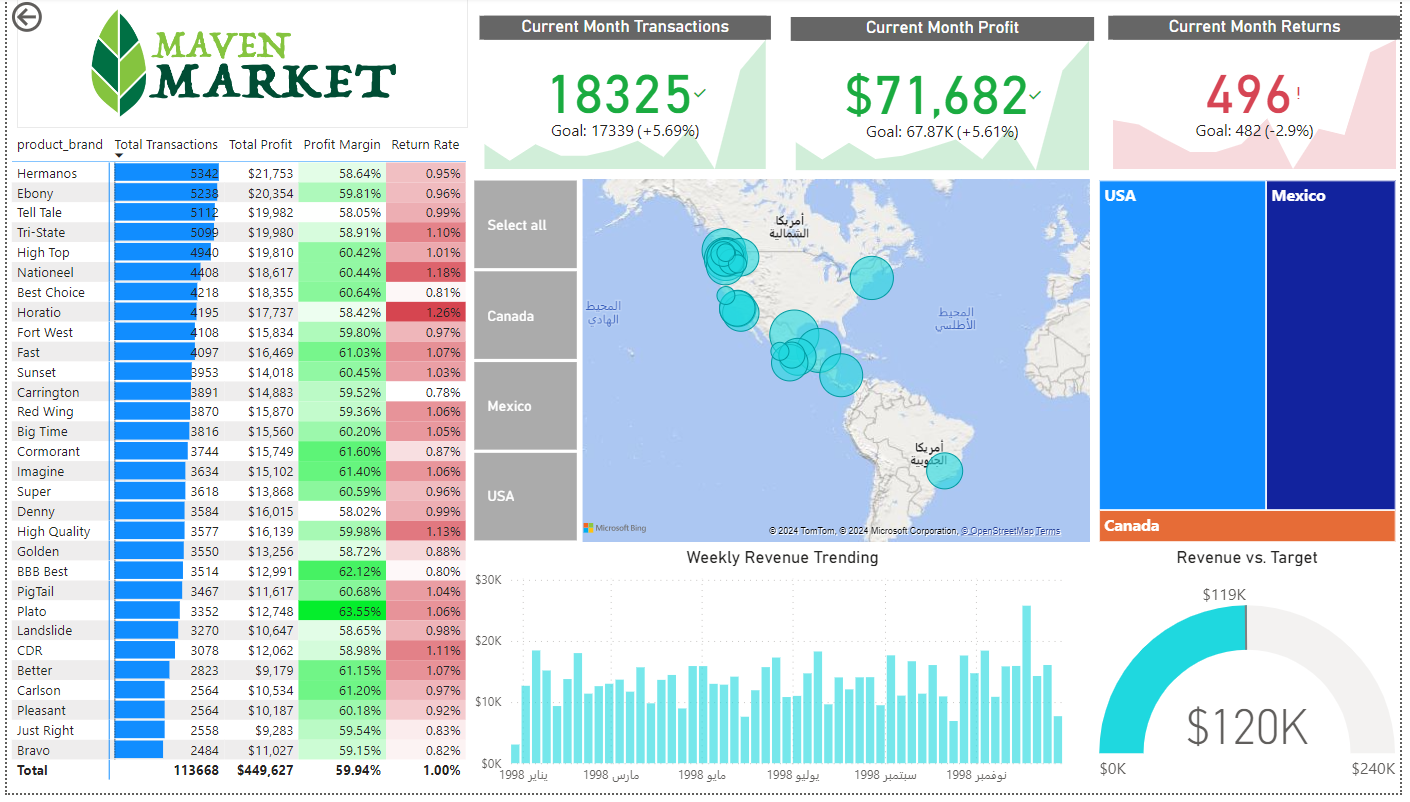

The dashboard page shown, as its layout file describes it:
{"tool":"powerbi","page":{"name":"Topline Performance","canvas":[1400,800],"ordinal":0},"visuals":[{"type":"image","box":[10,0,453.4,131.9],"z":0},{"type":"pivotTable","fields":{"Rows":["Products.product_brand"],"Values":["_Measures.Total Transactions","_Measures.Total Profit","_Measures.Profit Margin","_Measures.Return Rate"]},"box":[0,131.9,499.8,668.1],"z":1000},{"type":"actionButton","box":[0,0,100,40],"z":2000},{"type":"kpi","title":"Current Month Transactions","fields":{"Indicator":["_Measures.Total Transactions"],"TrendLine":["Calendar.Start of Month"],"Goal":["_Measures.Last Month Transactions"]},"box":[474.8,18.7,292.9,159.2],"z":3000},{"type":"kpi","title":"Current Month Profit","fields":{"TrendLine":["Calendar.Start of Month"],"Indicator":["_Measures.Total Profit"],"Goal":["_Measures.Last Month Profit"]},"box":[787.7,20.1,304.9,159.2],"z":4000},{"type":"kpi","title":"Current Month Returns","fields":{"Indicator":["_Measures.Total Returns"],"Goal":["_Measures.Last Month Returns"],"TrendLine":["Calendar.Start of Month"]},"box":[1106,18.7,294.2,159.2],"z":5000},{"type":"map","fields":{"Size":["_Measures.Total Transactions"],"Category":["Stores.City"]},"box":[568.4,177.9,524.3,374.5],"z":5001},{"type":"advancedSlicerVisual","fields":{"Values":["Stores.Country/Region"]},"box":[464.1,179.2,113.7,373.1],"z":5002},{"type":"treemap","fields":{"Group":["Stores.Country/Region"],"Values":["_Measures.Total Transactions"]},"box":[1092.7,179.2,307.6,373.1],"z":5003},{"type":"clusteredColumnChart","title":"Weekly Revenue Trending","fields":{"Y":["_Measures.Total Profit"],"Category":["Calendar.Start of Week"]},"box":[464.1,552.4,628.6,247.4],"z":5004},{"type":"gauge","title":"Revenue vs. Target","fields":{"TargetValue":["_Measures.Revenue Target"],"Y":["_Measures.Total Revenue"]},"box":[1093,552,307,247],"z":5005}]}

Visuals, with their boxes in screenshot pixels (x1, y1, x2, y2), scaled from the page's 1400x800 canvas onto the 1410x802 screenshot:
image: 10/0/467/132
pivotTable - Products.product_brand x _Measures.Total Transactions: 0/132/503/801
actionButton: 0/0/101/40
"Current Month Transactions" kpi: 478/19/773/178
"Current Month Profit" kpi: 793/20/1100/180
"Current Month Returns" kpi: 1114/19/1409/178
map - _Measures.Total Transactions x Stores.City: 572/178/1101/554
advancedSlicerVisual - Stores.Country/Region: 467/180/582/554
treemap - Stores.Country/Region x _Measures.Total Transactions: 1101/180/1409/554
"Weekly Revenue Trending" clusteredColumnChart: 467/554/1101/801
"Revenue vs. Target" gauge: 1101/553/1409/801
